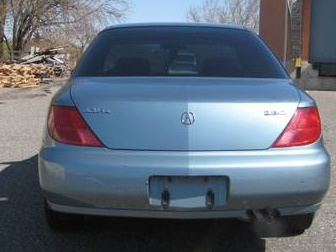acura: (36, 18, 332, 238)
